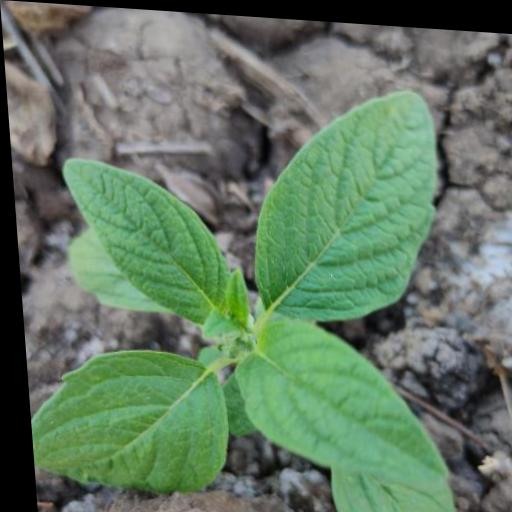crop: (3, 54, 475, 512)
